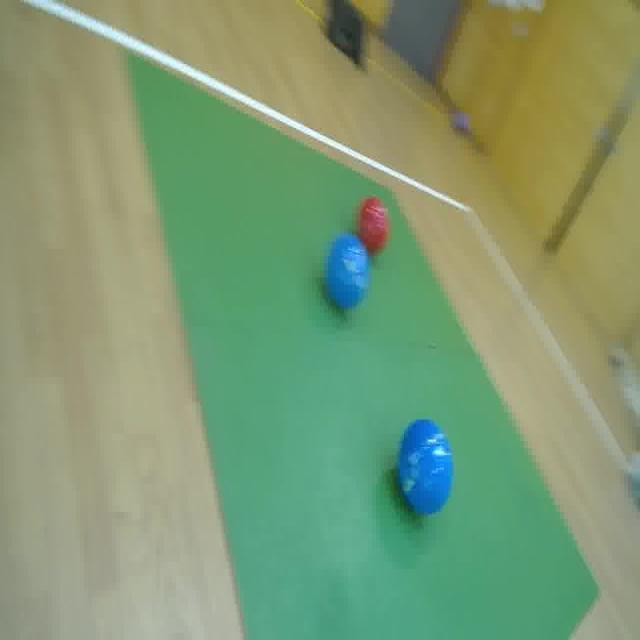blue_ball: (395, 414, 456, 520), (320, 230, 371, 318)
purple_ball: (450, 113, 468, 135)
red_ball: (353, 190, 396, 260)
